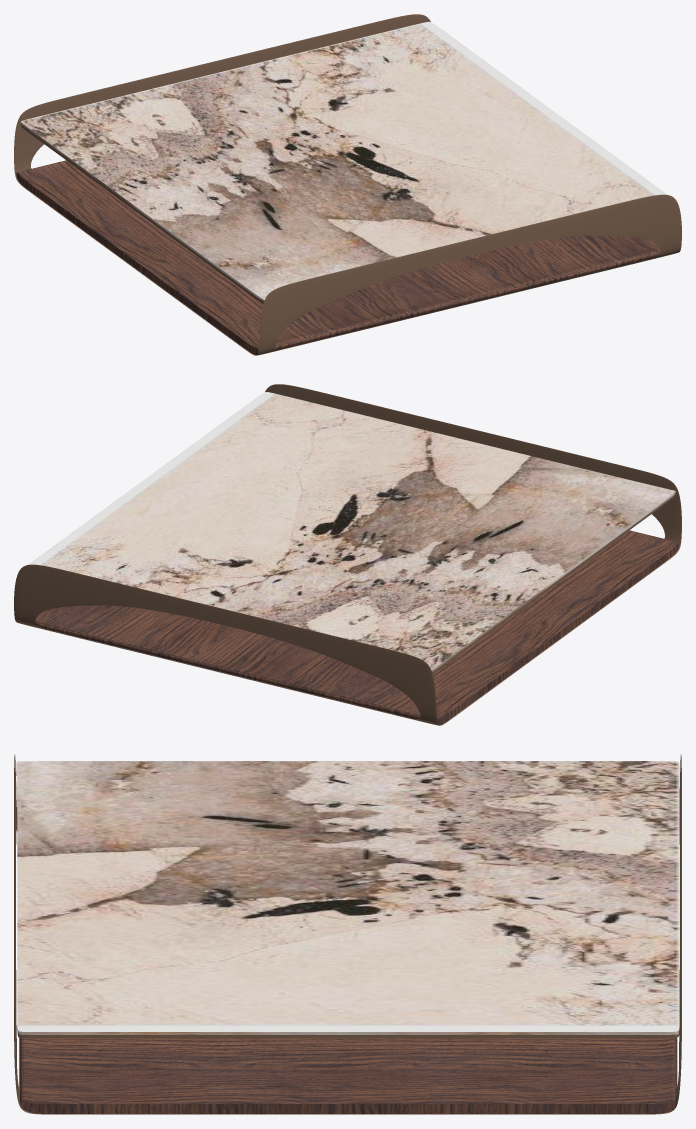
The model's file is St_Hilker_Detmold.glb.
3 renders of one model, top to bottom at view 1: azimuth 30°, elevation 25°; view 2: azimuth 150°, elevation 25°; view 3: azimuth 270°, elevation 25°, orthographic. The views are drawn at different scales.
Parts seen in each view (by area): view 1: Detmold; view 2: Detmold; view 3: Detmold.
Part boxes in pixels (left/top/right/bottom): Detmold: left=14, top=14, right=681, bottom=355; Detmold: left=14, top=384, right=681, bottom=725; Detmold: left=14, top=754, right=681, bottom=1114.
Bounding box in the file's own units: 0.9177 × 0.1749 × 0.9295.
Materials: 4 (2 with a texture image).
